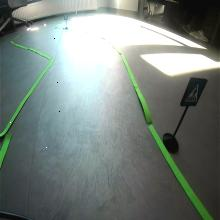crosswalk: (180, 77, 207, 107)
